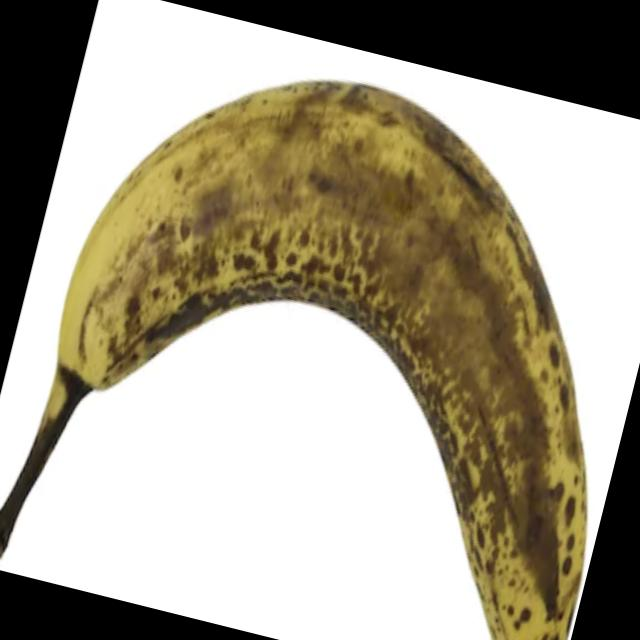banana: (129, 135, 552, 620)
